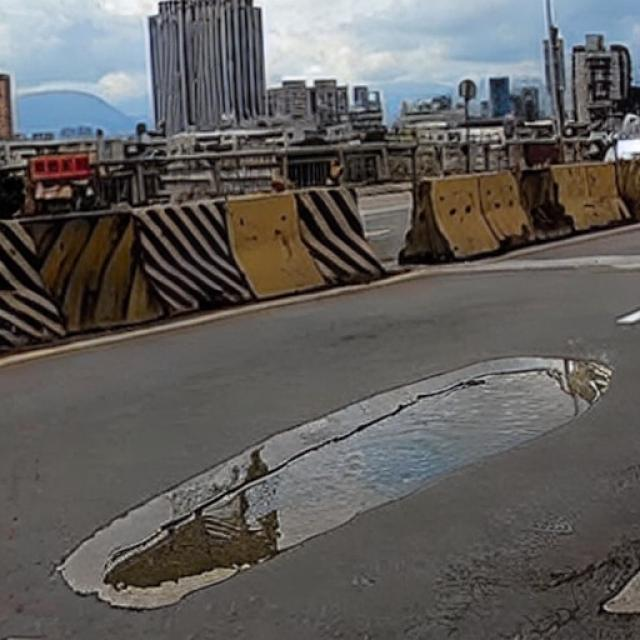puddle: (103, 367, 602, 587)
